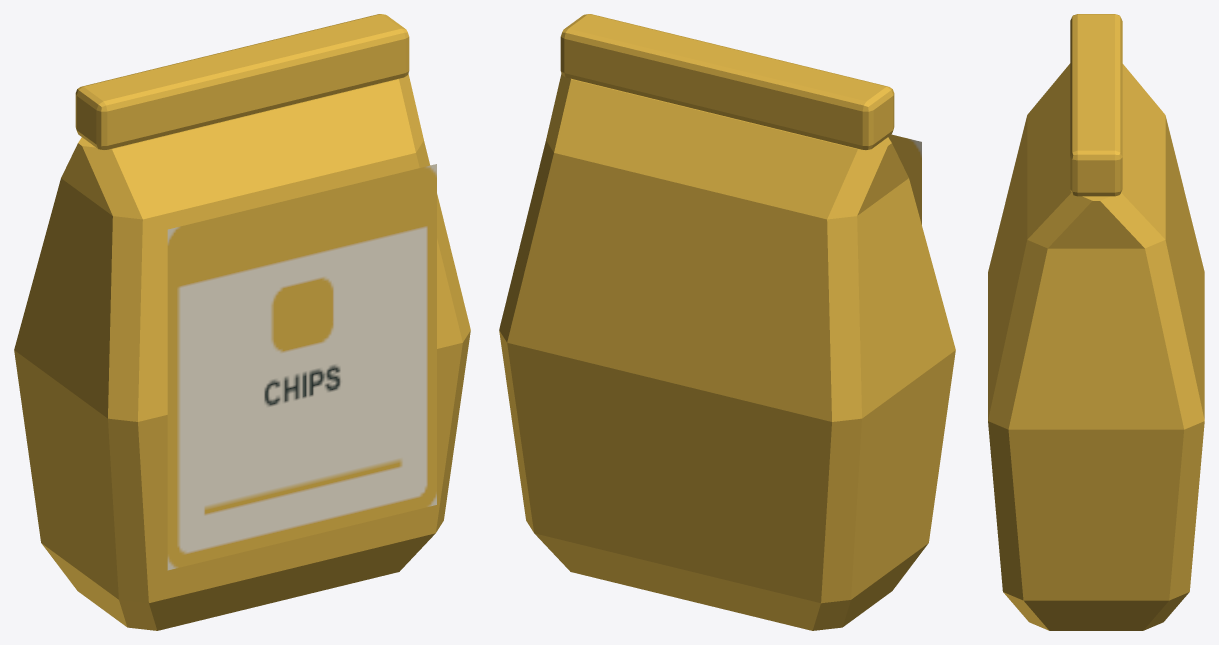
File: chips.fbx
The picture shows the model from 3 angles, left to right: view 1: azimuth 30°, elevation 25°; view 2: azimuth 150°, elevation 25°; view 3: azimuth 270°, elevation 25°; orthographic projection. The views are drawn at different scales.
Visible parts, largest first — view 1: chips; view 2: chips; view 3: chips.
Part boxes in pixels (bbox=[...]): chips: bbox=[14, 14, 470, 630]; chips: bbox=[499, 14, 955, 630]; chips: bbox=[988, 14, 1204, 630].
Bounding box in the file's own units: 21 × 28.61 × 11.8.
